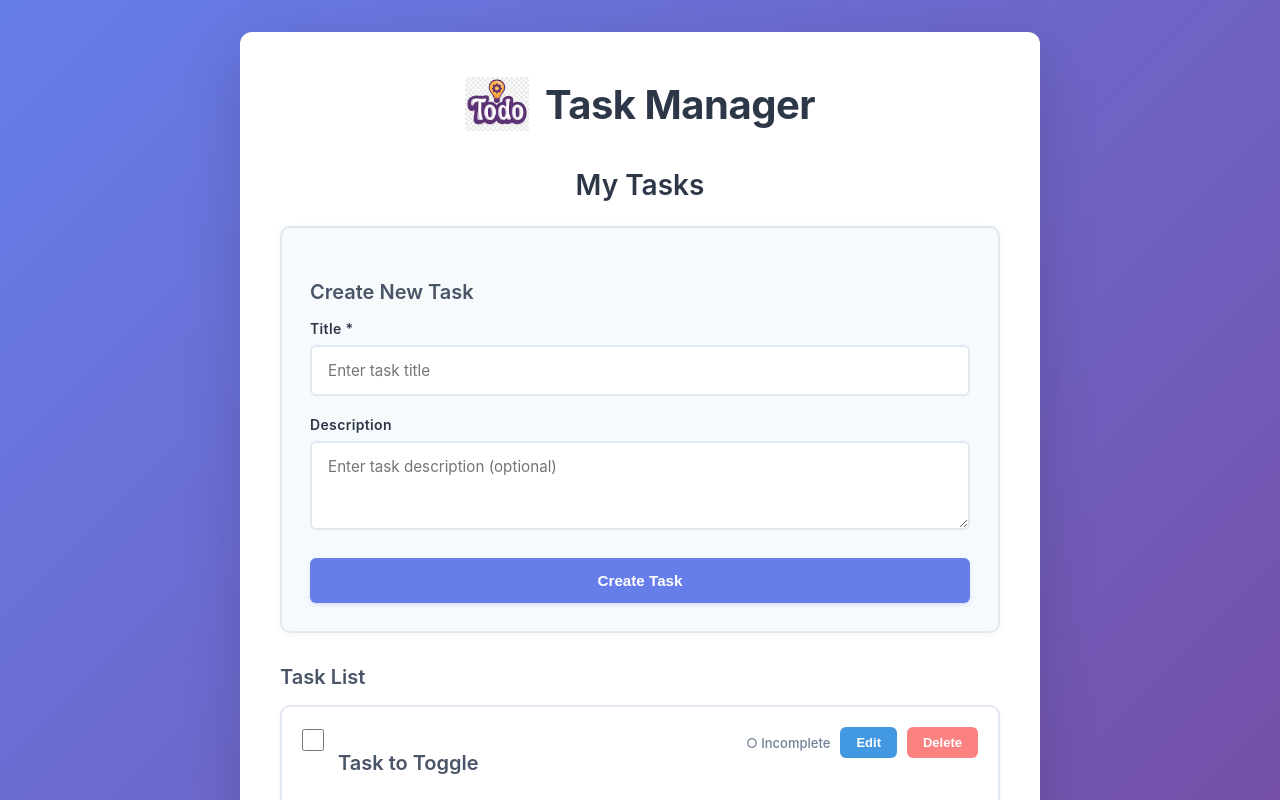
App Component › Integration Tests - Complete User Flows › Completion Toggle Flow › should handle 404 error during toggle
Expected: the heading "Task to Toggle" is shown, [338, 751, 479, 775]
Click the checkbox named "mark task \"task to toggle\" as complete" at (313, 740), box [302, 729, 324, 751]
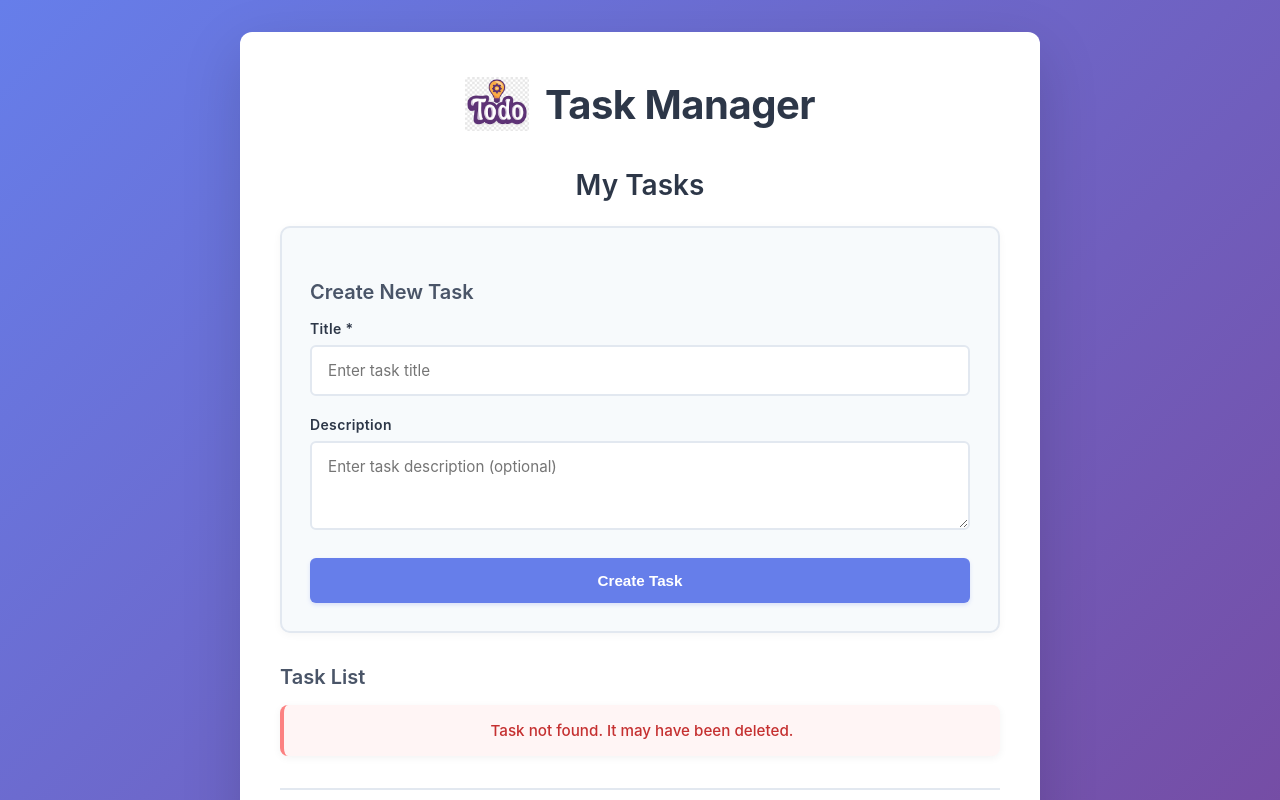
Now the element with class "task-list-section" shows "Task not found", box [490, 721, 794, 740]
